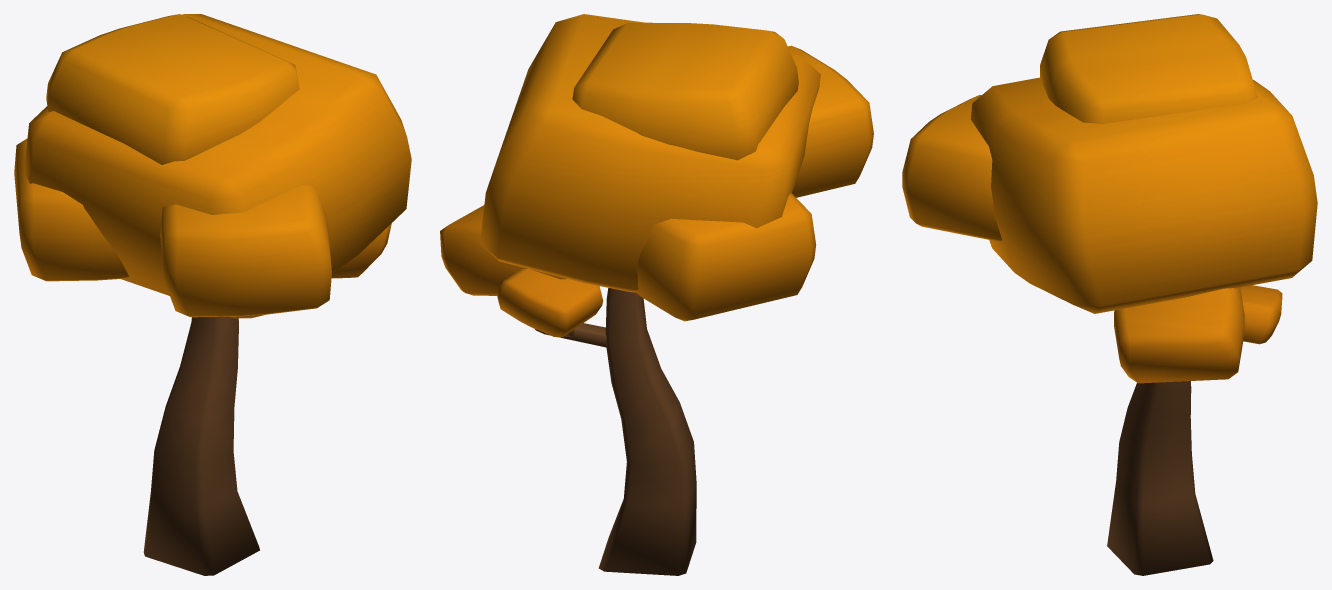
The model's file is Tree_2_3.glb.
3 views of the same model, side by side, from view 1: azimuth 30°, elevation 25°; view 2: azimuth 150°, elevation 25°; view 3: azimuth 270°, elevation 25° (orthographic). The views are drawn at different scales.
Parts seen in each view (by area): view 1: Tree_2_3; view 2: Tree_2_3; view 3: Tree_2_3.
Part boxes in pixels (<box>): Tree_2_3: <box>14,14,411,575</box>; Tree_2_3: <box>440,14,873,575</box>; Tree_2_3: <box>902,14,1317,575</box>.
Bounding box in the file's own units: 2.43 × 3.37 × 2.59.
1 material, 1 textured.
